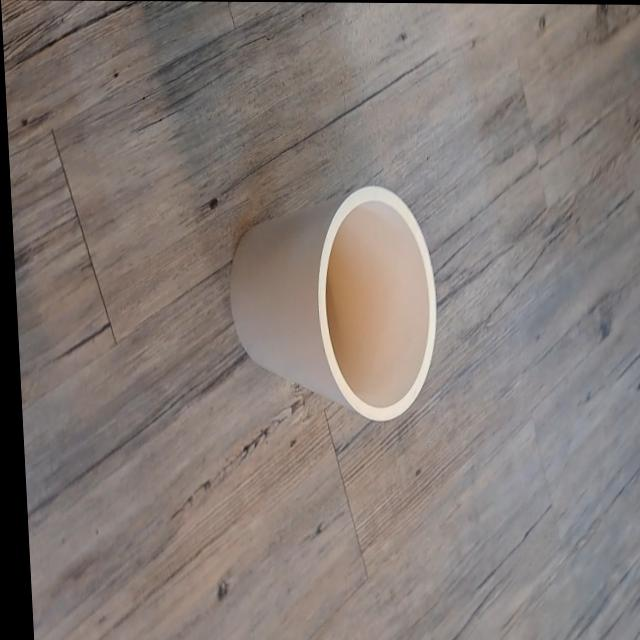CORAL: (215, 159, 465, 467)
